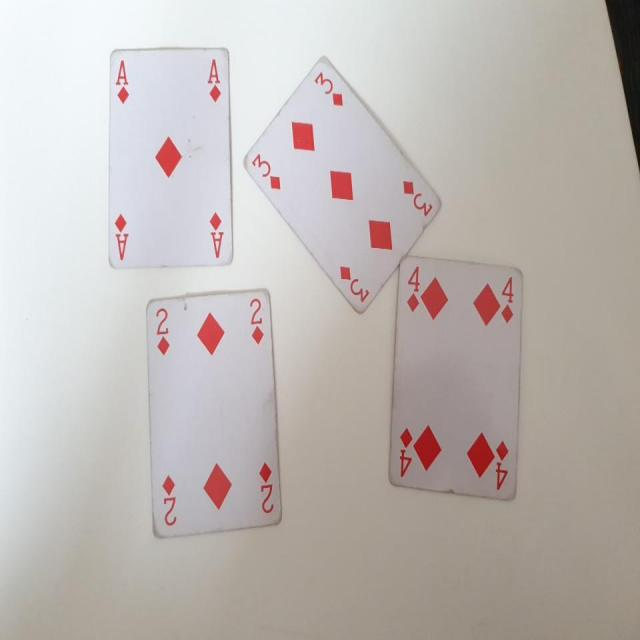2 Diamonds: (146, 286, 283, 532)
3 Diamonds: (237, 54, 443, 318)
4 Diamonds: (390, 252, 526, 506)
A Diamonds: (98, 39, 239, 278)
